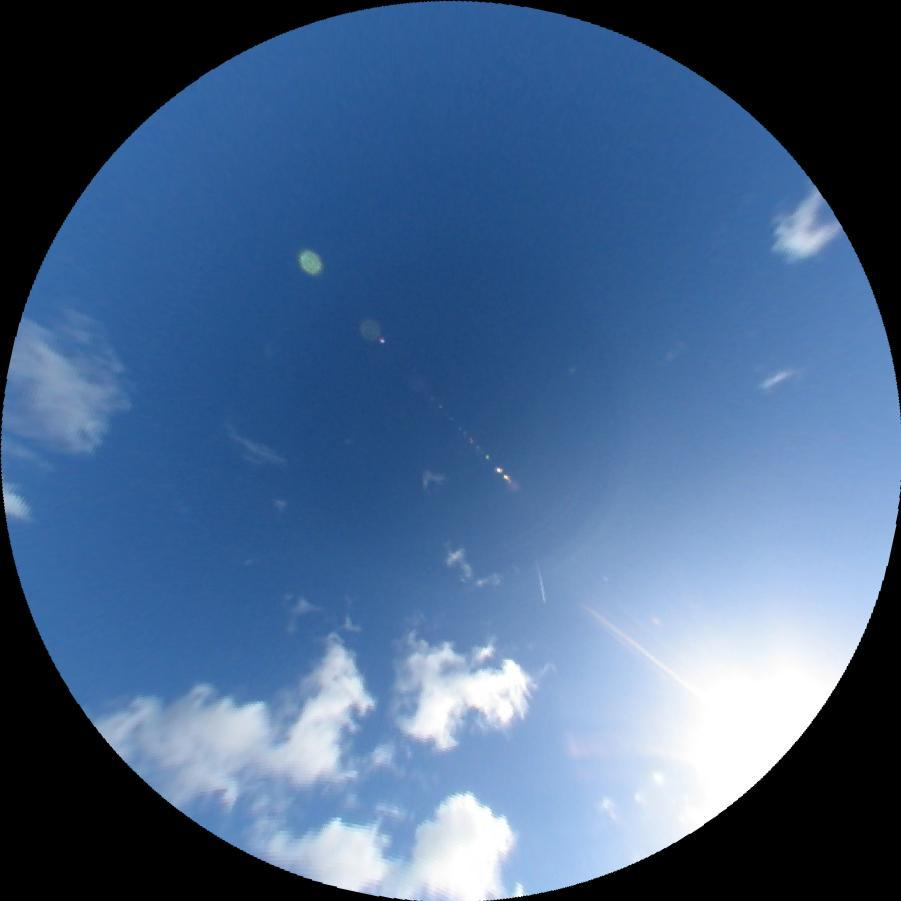contrail young: (530, 556, 547, 604)
parasite: (578, 596, 705, 703)
sun: (662, 629, 835, 804)
